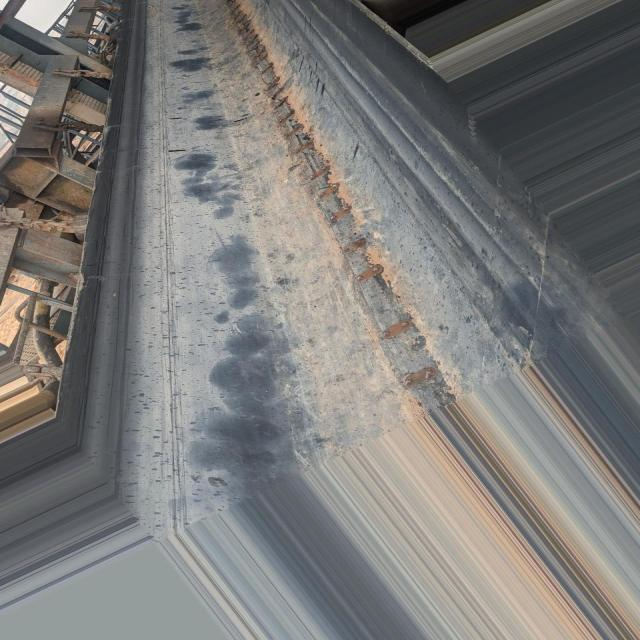patch work: (218, 0, 455, 414)
